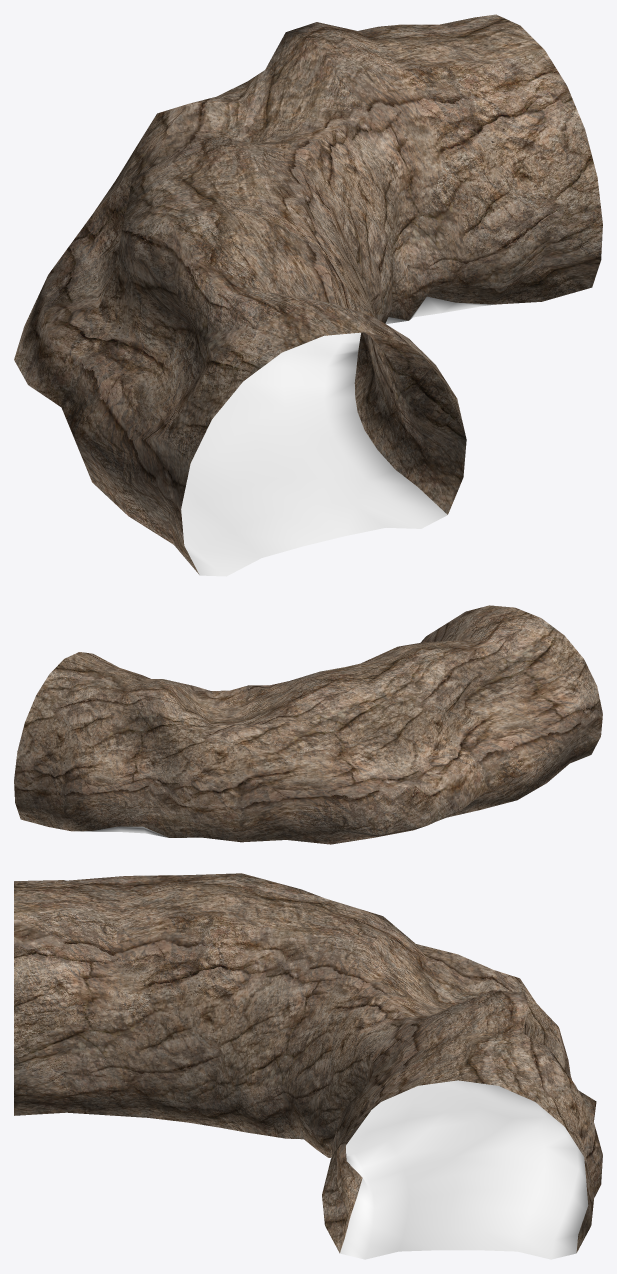
File: CaveCorridorTurnRight.fbx
The picture shows the model from 3 angles, top to bottom: view 1: azimuth 30°, elevation 25°; view 2: azimuth 150°, elevation 25°; view 3: azimuth 270°, elevation 25°; orthographic projection. The views are drawn at different scales.
Parts seen in each view (by area): view 1: CaveCorridorTurnRight; view 2: CaveCorridorTurnRight; view 3: CaveCorridorTurnRight.
Part boxes in pixels (x1,y1,x2,y2): CaveCorridorTurnRight: (14,14,602,576); CaveCorridorTurnRight: (14,605,602,844); CaveCorridorTurnRight: (14,873,602,1259).
Size of the model in its own units: 680 by 260 by 690.
